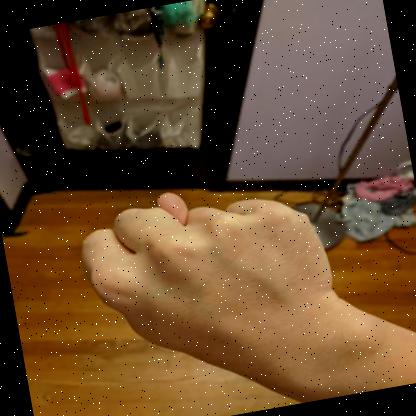N: (81, 192, 347, 362)
